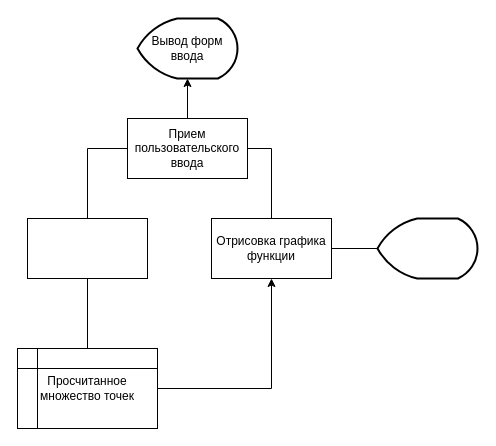
The diagram is 496 pixels wide and 446 high, and some of its shapes have lost their labels. The shapes that lost their labels are listed below. From the top down, each one's centre as x and y in pixels, then its label:
the point at 87,248: Преобразование ввода в математическую функцию
the point at 427,248: Вывод графика
